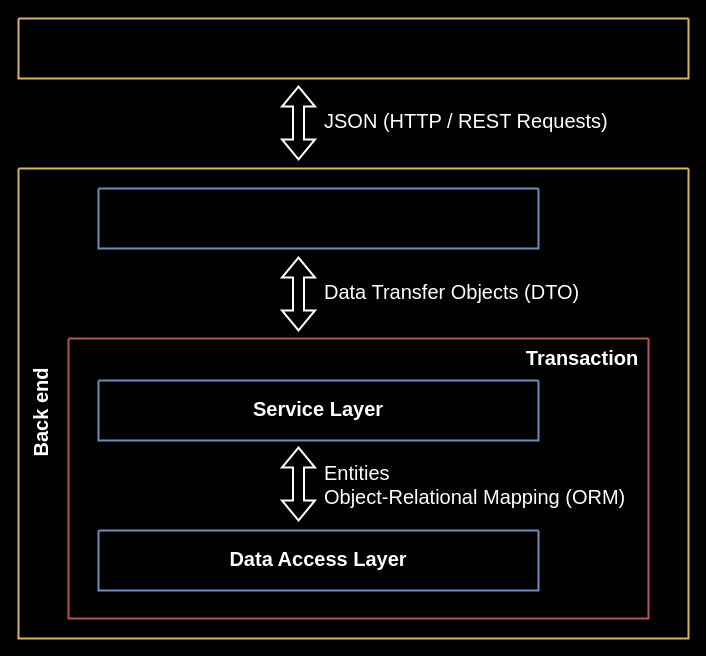
This 706x656 diagram has some shape labels left out. Each missing label, with the centre of its shape:
"Application (Front end)" goes at (x=353, y=48).
"REST Controllers" goes at (x=318, y=218).
